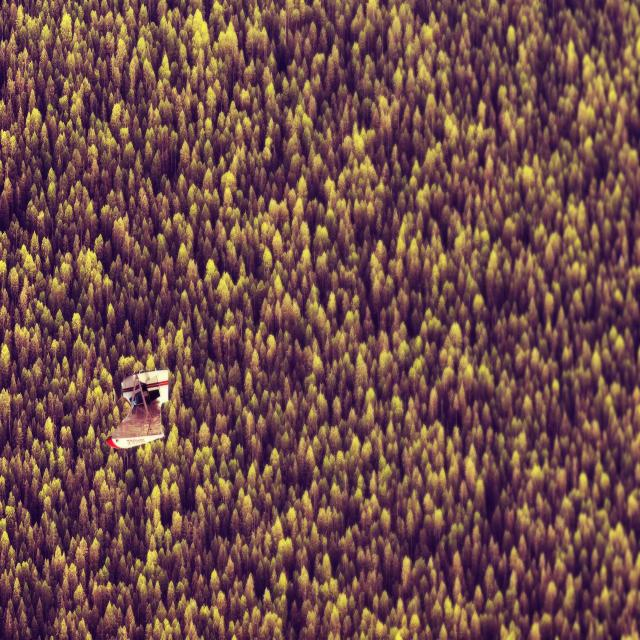airplane: (106, 367, 169, 450)
